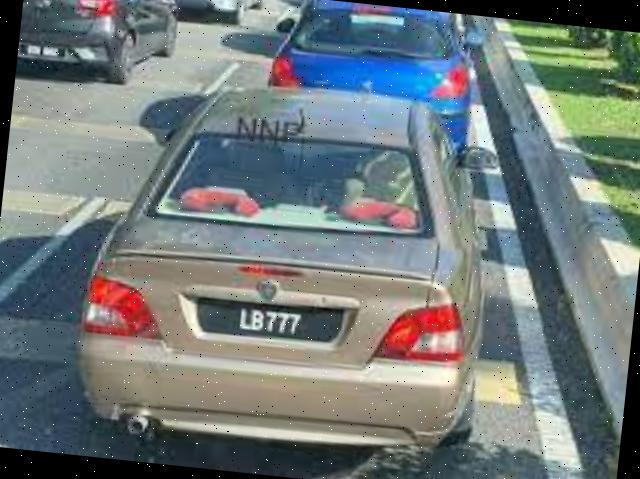License_Plate: (188, 287, 352, 358)
car: (61, 67, 515, 473)
